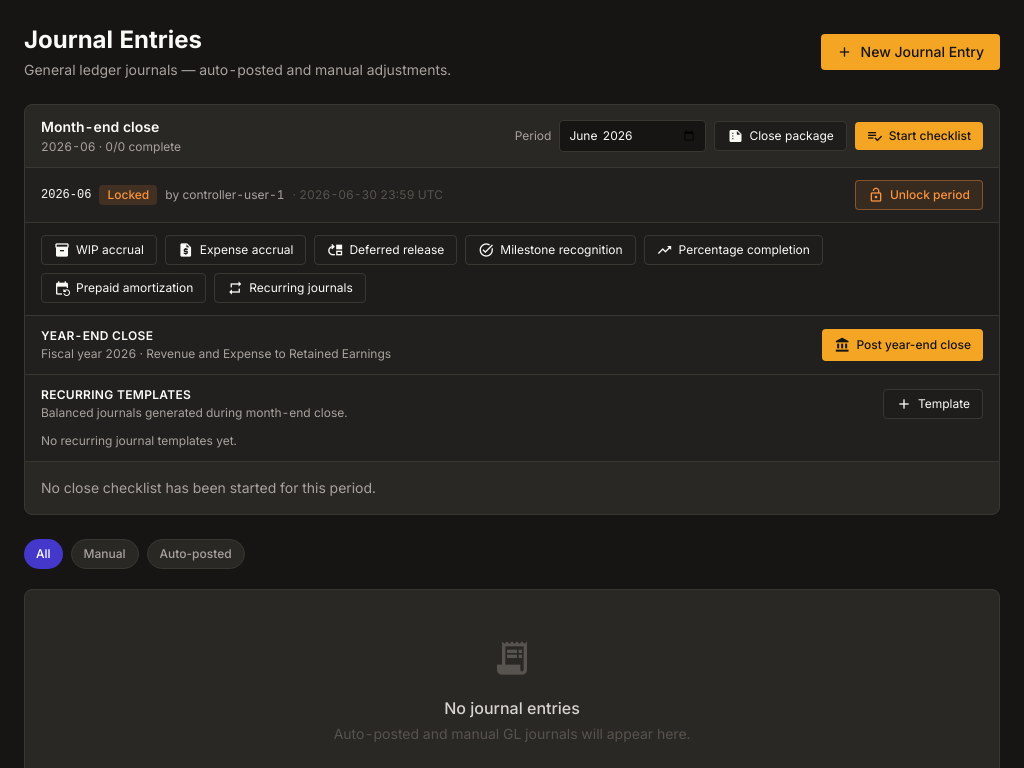
Test case: JournalEntriesListComponent close period › requires explicit confirmation before unlocking and cancel makes no request
Step 1. Click the button "Unlock period" → (919, 195), box [855,180,983,210]
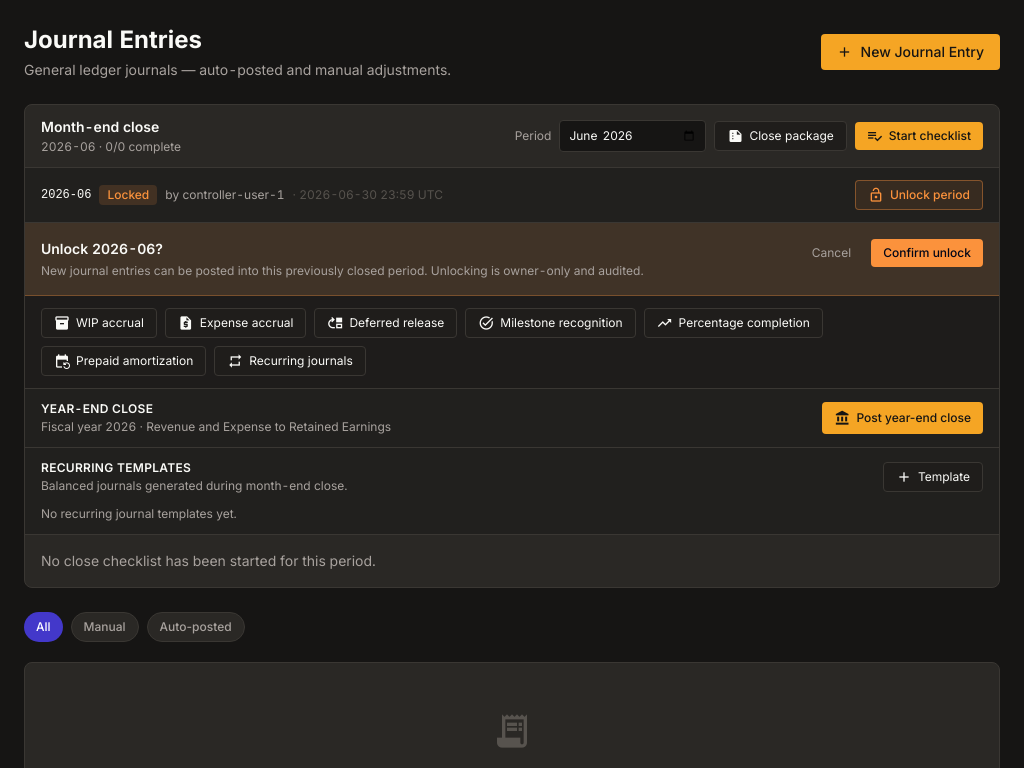
expect the dialog is shown: met, box [25,223,999,296]
Step 2. Click the button "Cancel" → (832, 253), box [800,239,863,267]
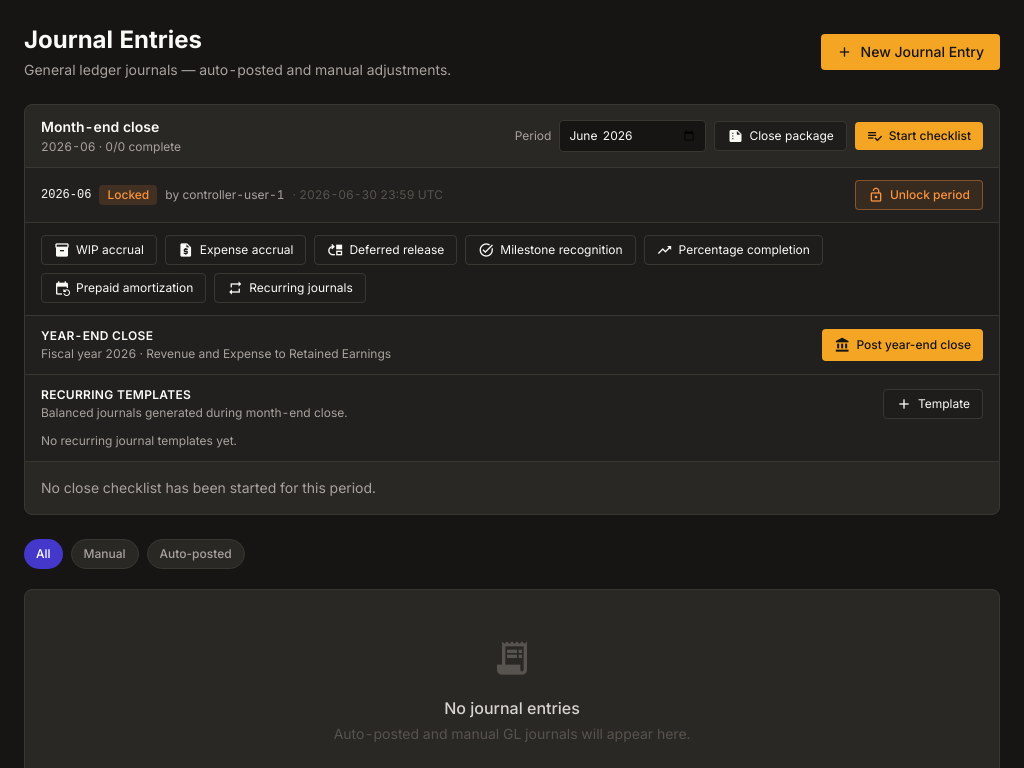
expect the dialog is gone: met
